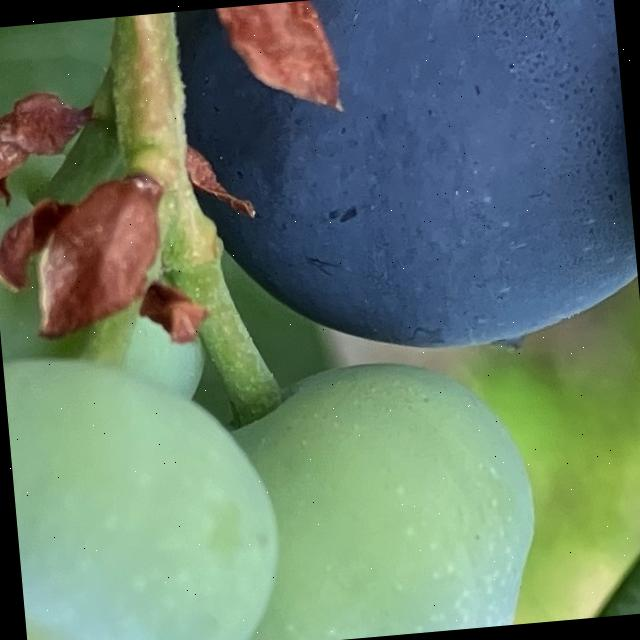Blueberries: (163, 0, 640, 372), (162, 335, 587, 640), (2, 332, 294, 640)
